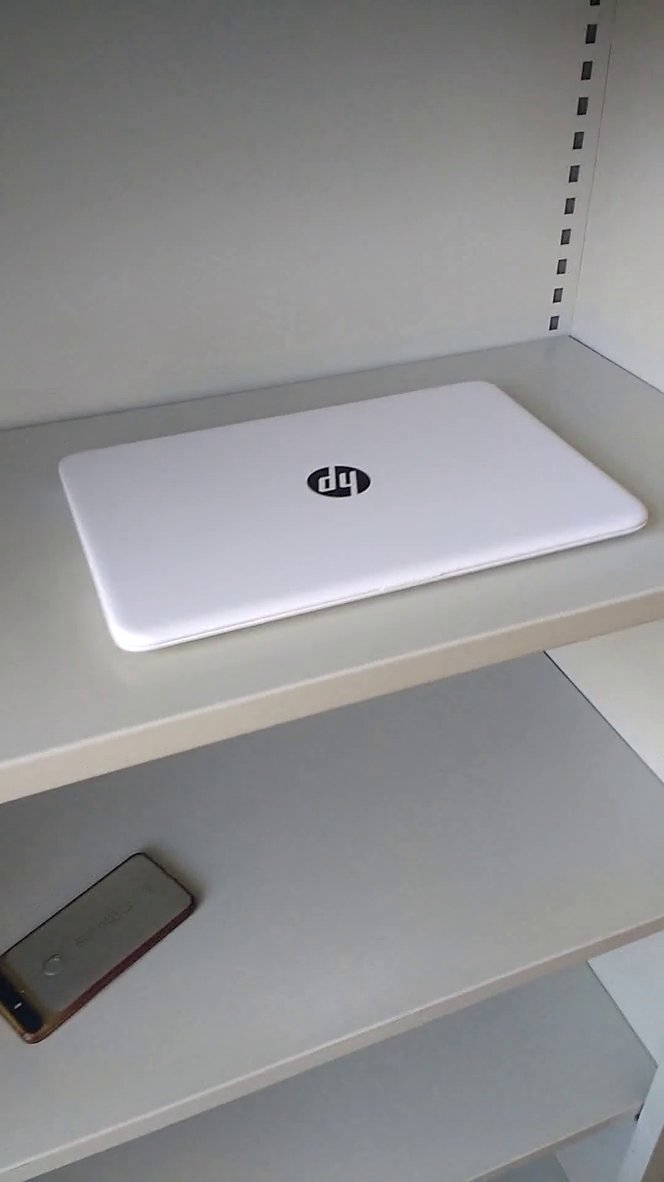laptop: (47, 363, 664, 669)
phone: (1, 826, 215, 1061)
